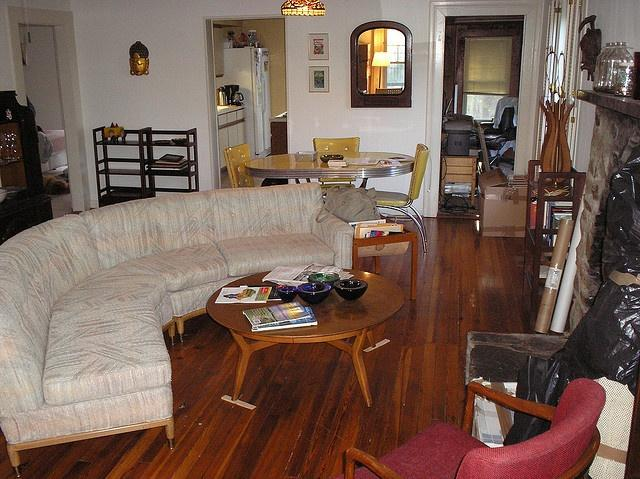Kursi: (343, 375, 606, 478)
Meja: (206, 265, 404, 406)
Rak: (93, 128, 196, 208)
